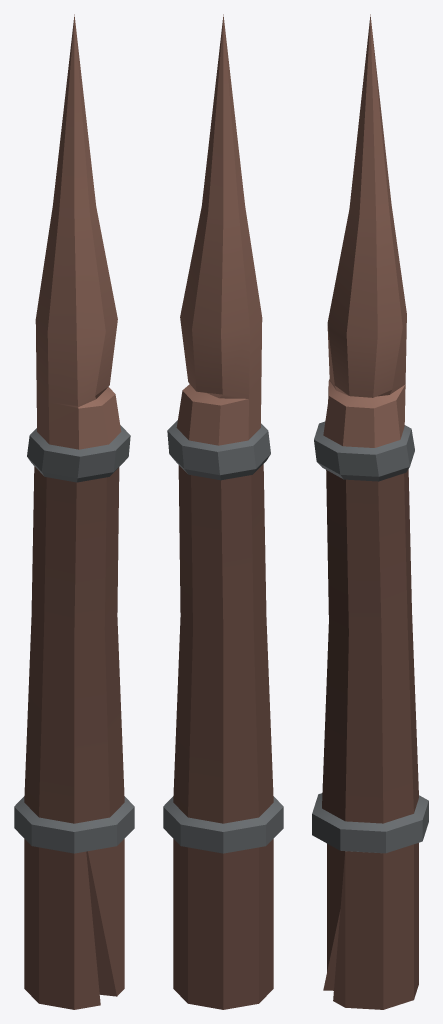
The model's file is SM_Spikes_02.fbx.
3 views of the same model, side by side, from view 1: azimuth 30°, elevation 25°; view 2: azimuth 210°, elevation 25°; view 3: azimuth 270°, elevation 25° (orthographic).
Visible parts, largest first — view 1: Spikes_02; view 2: Spikes_02; view 3: Spikes_02.
Boxes of the visible parts, bbox=[...] form: Spikes_02: bbox=[14, 14, 134, 1009]; Spikes_02: bbox=[163, 14, 283, 1009]; Spikes_02: bbox=[312, 14, 428, 1009].
Bounding box in the file's own units: 14.6 × 135 × 14.6.
